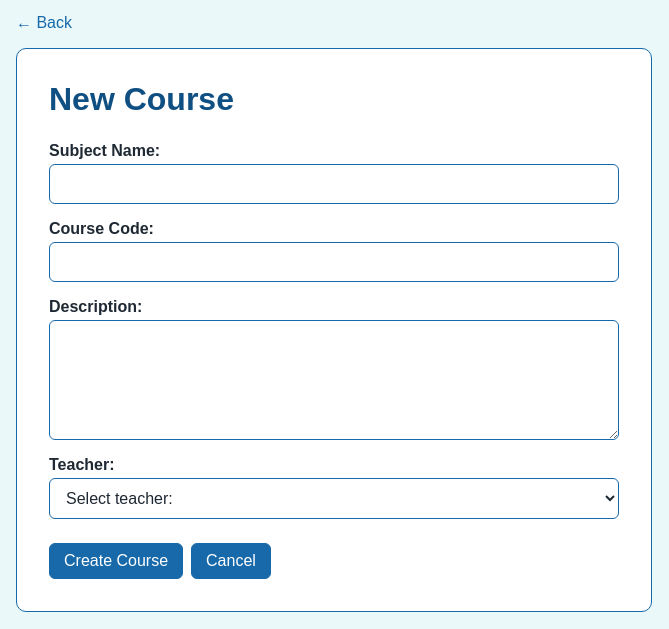
NewCourse › successfully creates a course and displays success message
Type "Physics" into the field labelled "Subject Name:" at (334, 184), box [49,164,619,204]
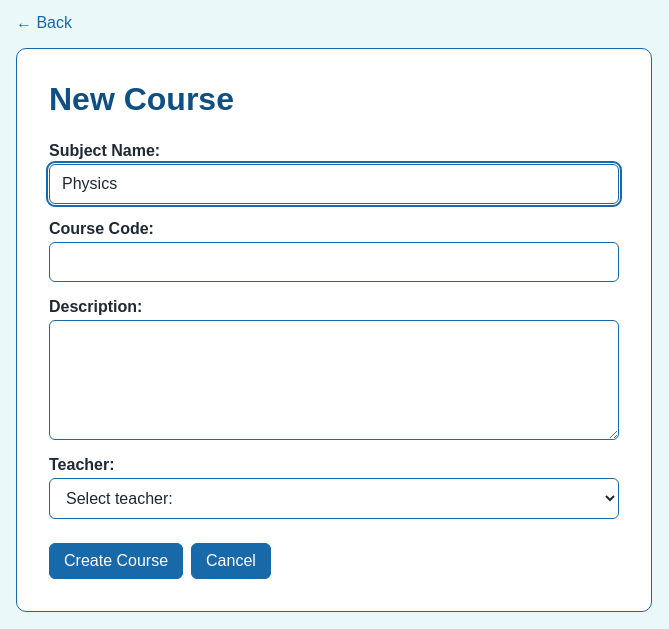
Type "PHY101" into the field labelled "Course Code:" at (334, 262), box [49,242,619,282]
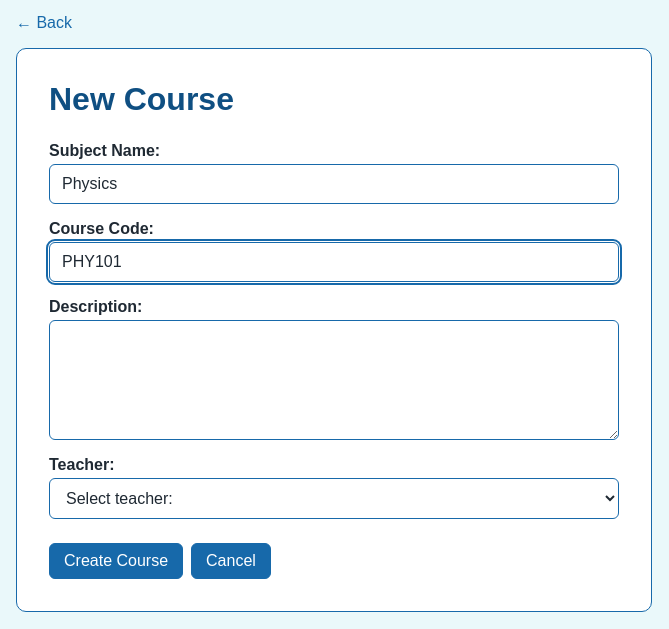
Type "Introduction to physics" into the text box labelled "Description:" at (334, 380), box [49,320,619,440]
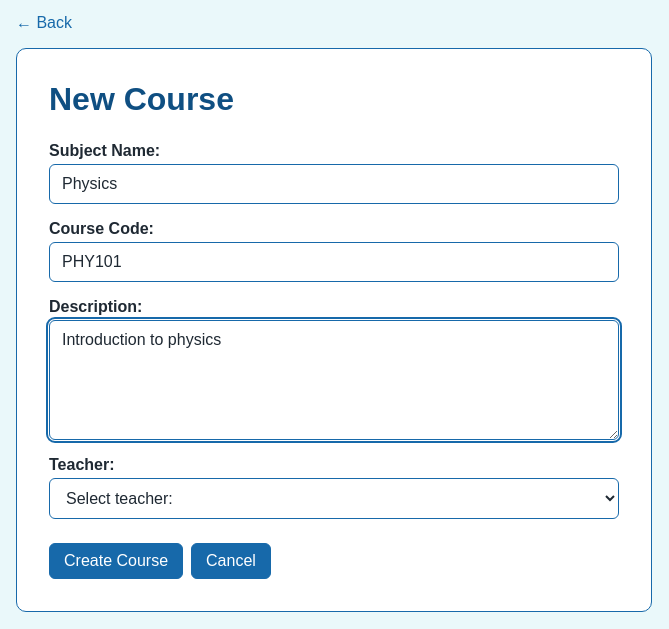
Select "teacherone" in the dropdown at (334, 498), box [49,478,619,519]
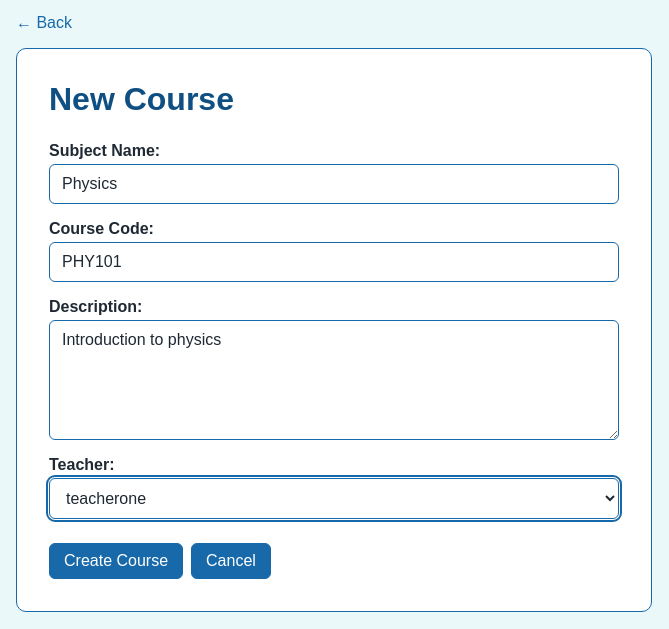
Click the button "Create Course" at (116, 561), box [49,543,183,579]
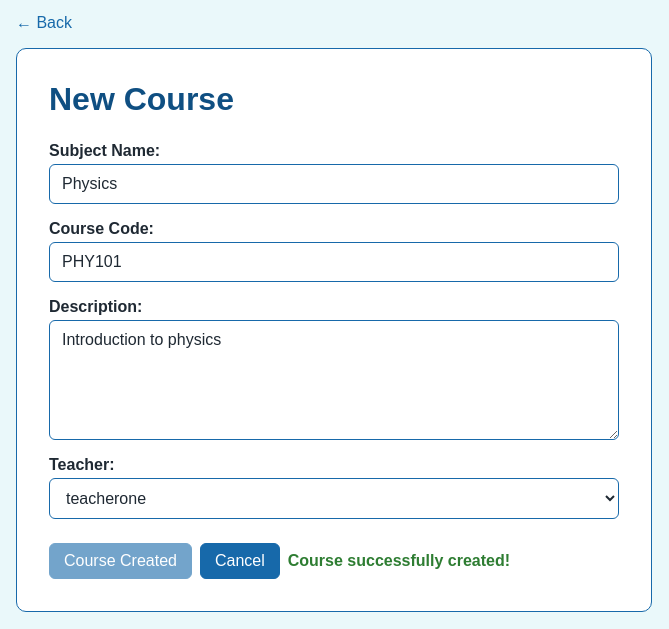
Now the text "Course successfully created!" is shown, box [288,552,510,570]
